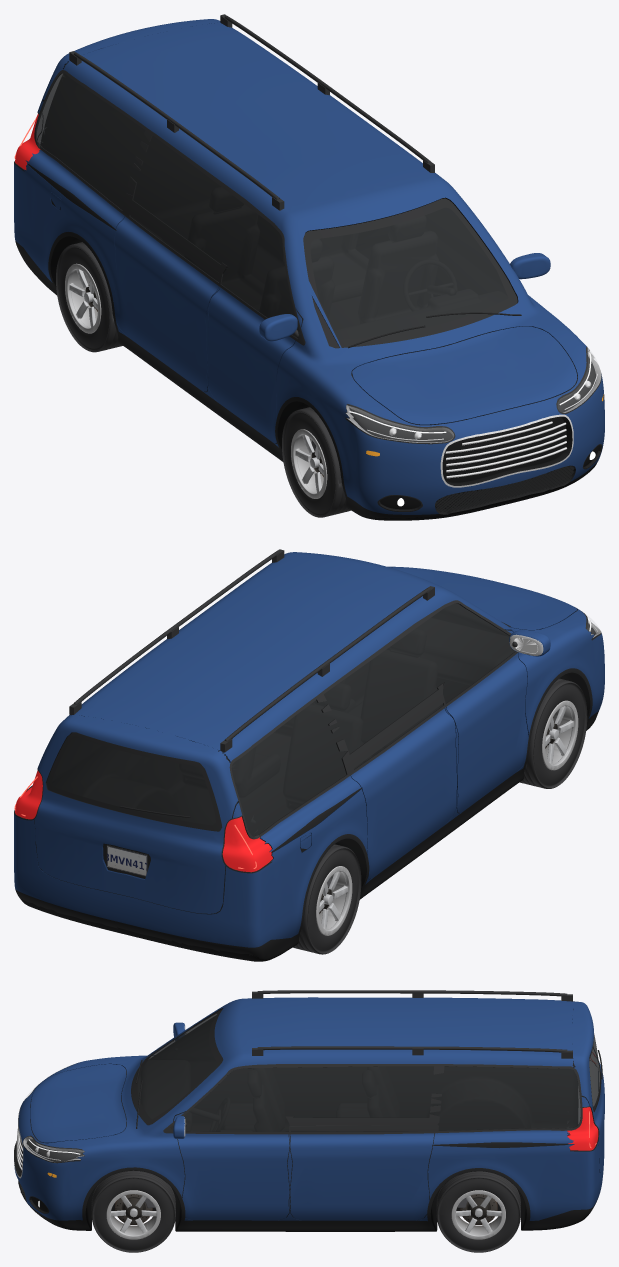
File: car_minivan.glb
3 views of the same model, one above another, from view 1: azimuth 30°, elevation 25°; view 2: azimuth 150°, elevation 25°; view 3: azimuth 270°, elevation 25° (orthographic). The views are drawn at different scales.
Visible parts, largest first — view 1: body, wheel_FR, wheel_RR; view 2: body, wheel_FR, wheel_RR; view 3: body, wheel_FL, wheel_RL.
Boxes of the visible parts, <box> form: body: <box>14,14,604,520</box>; wheel_FR: <box>282,407,350,517</box>; wheel_RR: <box>56,242,122,352</box>; body: <box>14,549,604,961</box>; wheel_FR: <box>520,678,587,788</box>; wheel_RR: <box>293,844,361,954</box>; body: <box>14,990,604,1231</box>; wheel_FL: <box>91,1170,175,1252</box>; wheel_RL: <box>436,1171,520,1252</box>.
Size of the model in its own units: 2.2 by 1.81 by 5.16.
15 materials, 2 textured.
